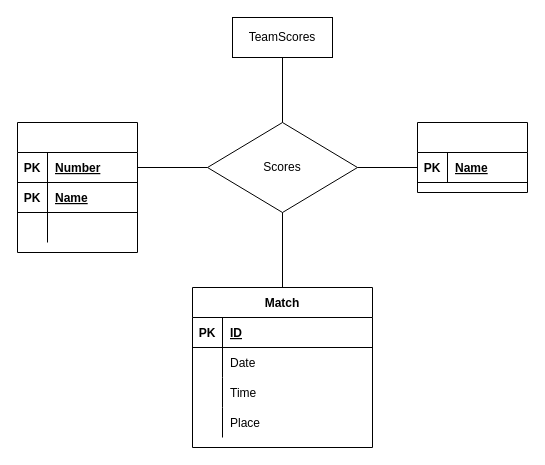
Some shapes in this 545 by 465 pixel diagram are drawn without their labels. Here are the shapes that lost their labels. From the top down, the box of each, then its label:
(416, 122, 528, 192): Team
(16, 122, 138, 252): Player
